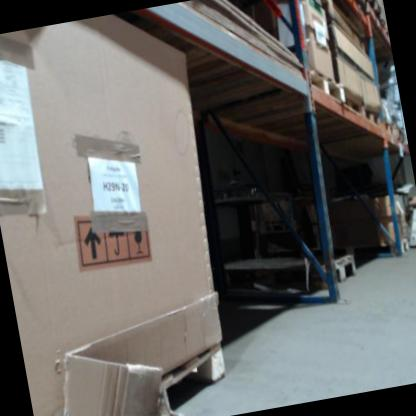pallet: (26, 333, 238, 416), (235, 247, 359, 305), (304, 61, 345, 114), (357, 235, 411, 259), (294, 0, 336, 26), (339, 87, 364, 125), (361, 98, 382, 136), (366, 0, 386, 34), (390, 121, 405, 148), (344, 0, 367, 16), (380, 116, 394, 140)
pallet_truck: (394, 193, 416, 252)
